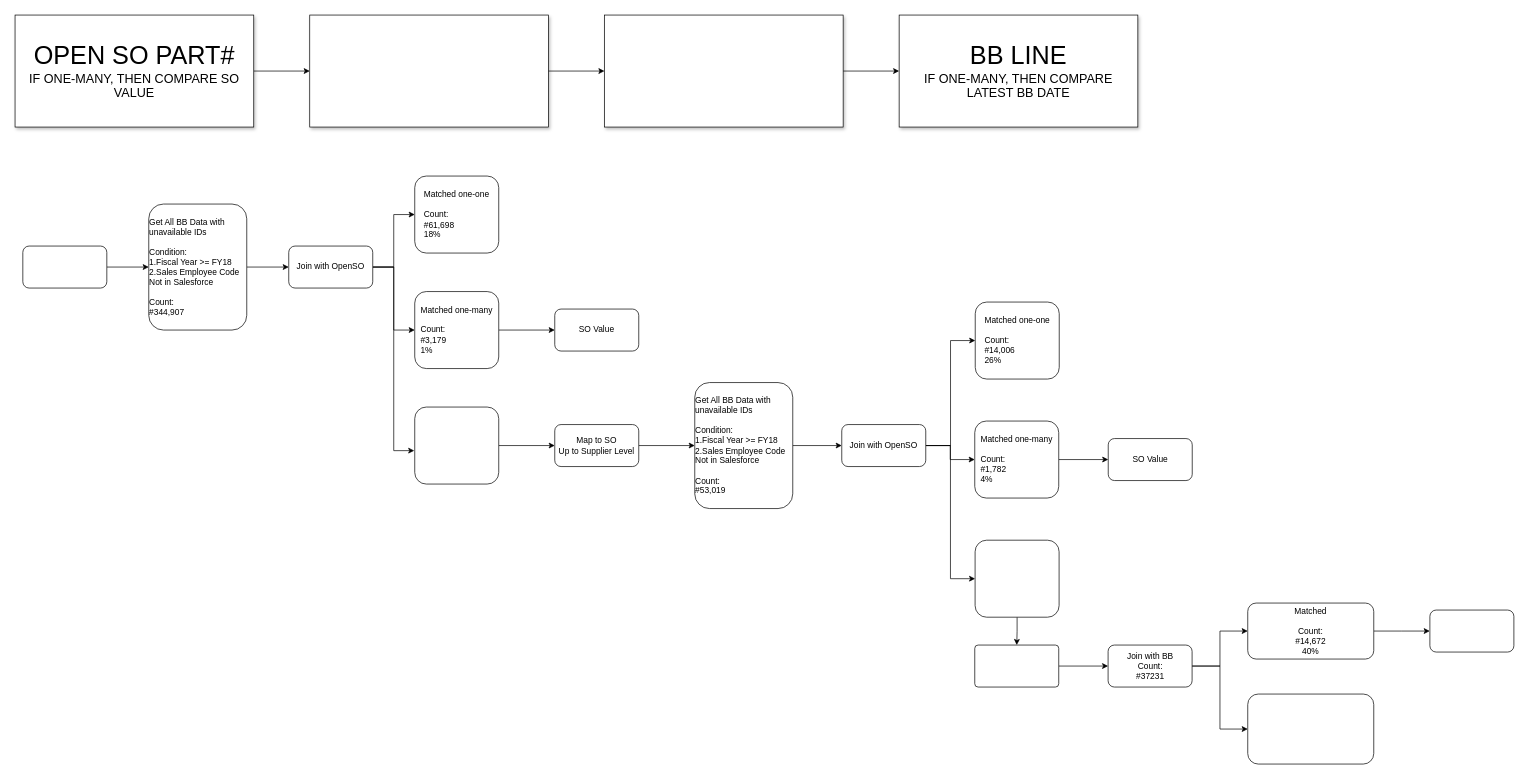
Some shapes in this 1527 by 776 pixel diagram are drawn without their labels. Each missing label, with the centre of its shape:
BB PART# IF ONE-MANY, THEN COMPARE LATEST BB DATE: [724,72]
Latest BB: [1471,630]
Map to latest BB Supplier Level: [1016,665]
Map to SO Material Level: [64,266]
OPEN SO LINE IF ONE-MANY, THEN COMPARE SO VALUE: [429,72]
Unmatched Count: #280,030 81%: [456,445]
Unmatched Count: #37,231 70% 57%: [1016,578]
Unnatched Count: #22,559 60% 34%: [1310,728]
